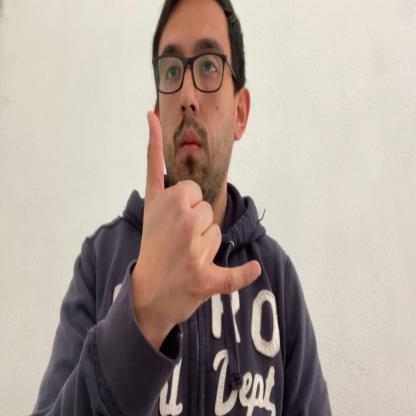Y: (142, 110, 262, 317)
